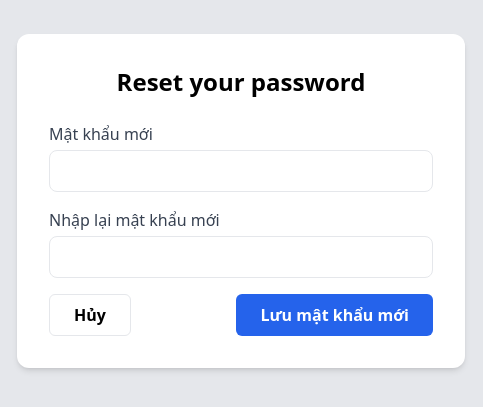
Scenario: ResetPasswordPage › submits successfully and shows success message
The image size is (483, 407).
Step 1. Type "Password123!" into the password field labelled "Mật khẩu mới" → {"x": 241, "y": 171}, box [49,150,433,192]
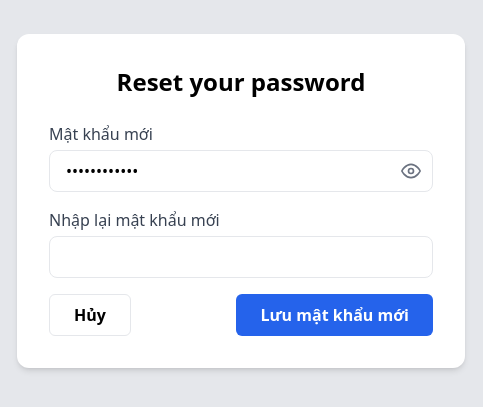
Step 2. Type "Password123!" into the password field labelled "Nhập lại mật khẩu mới" → {"x": 241, "y": 257}, box [49,236,433,278]
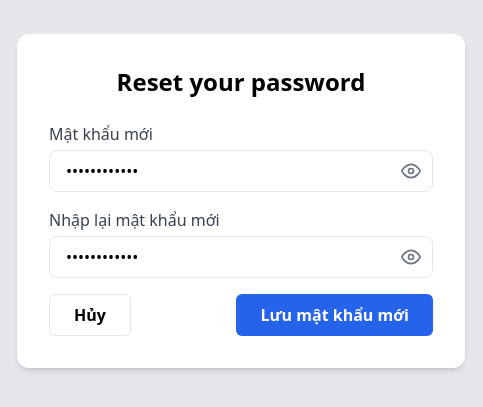
Step 3. Click the button "Lưu mật khẩu mới" → {"x": 335, "y": 315}, box [236,294,433,336]
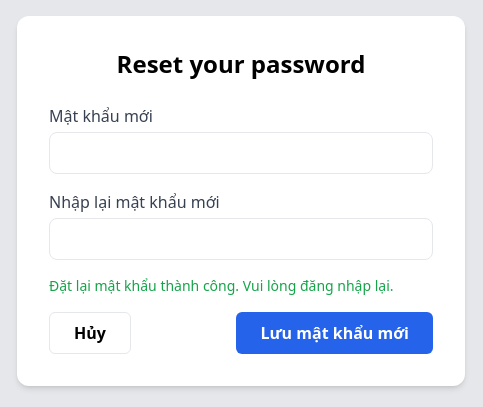
Check: the text "Đặt lại mật khẩu thành công. Vui lòng đăng nhập lại." is shown, box [49,276,433,296]
